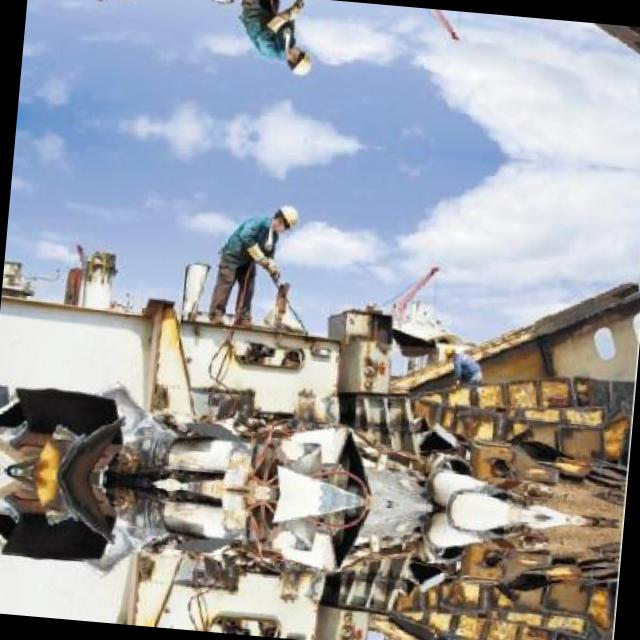helmet: (270, 199, 299, 234), (284, 42, 312, 78), (442, 342, 459, 360)
